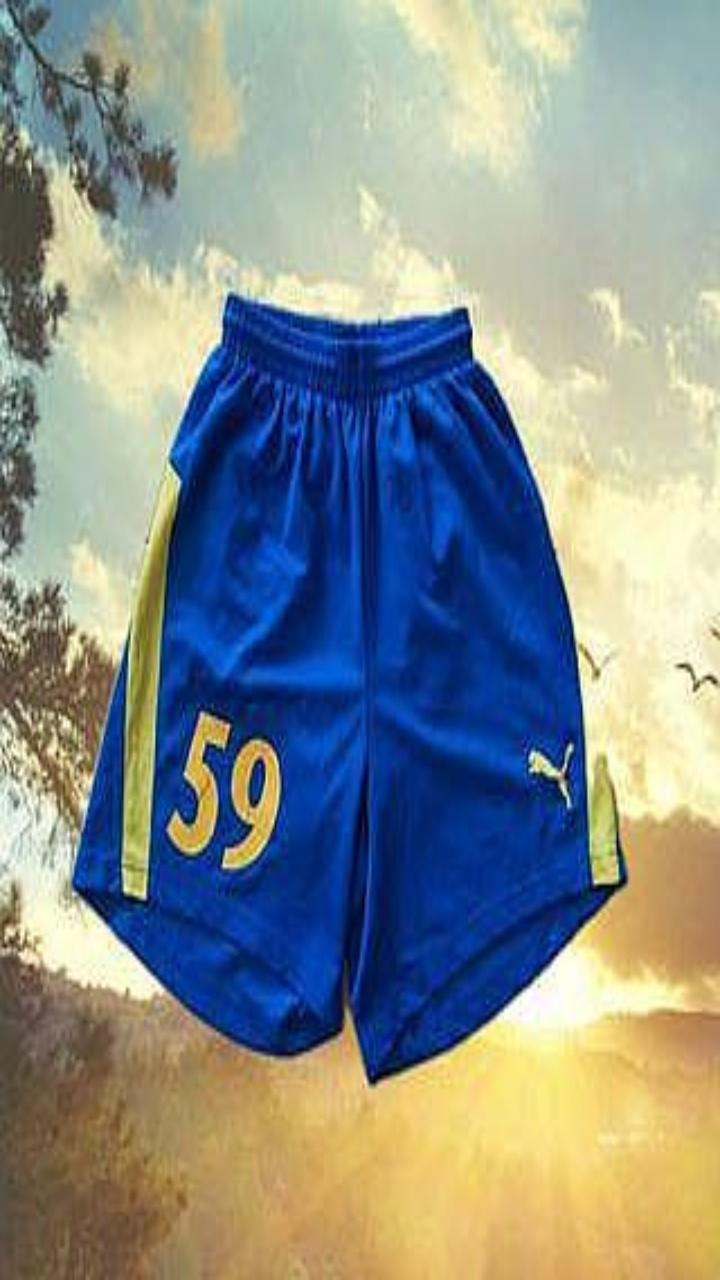Shorts: (72, 294, 626, 1081)
